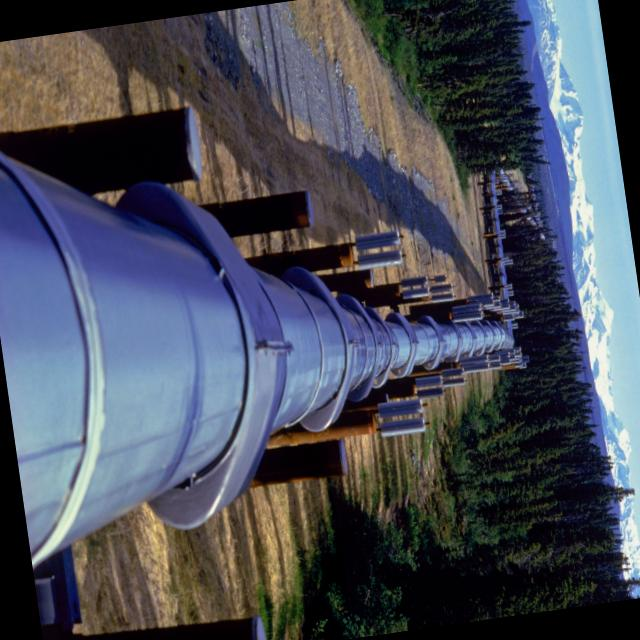gas: (0, 163, 509, 561)
